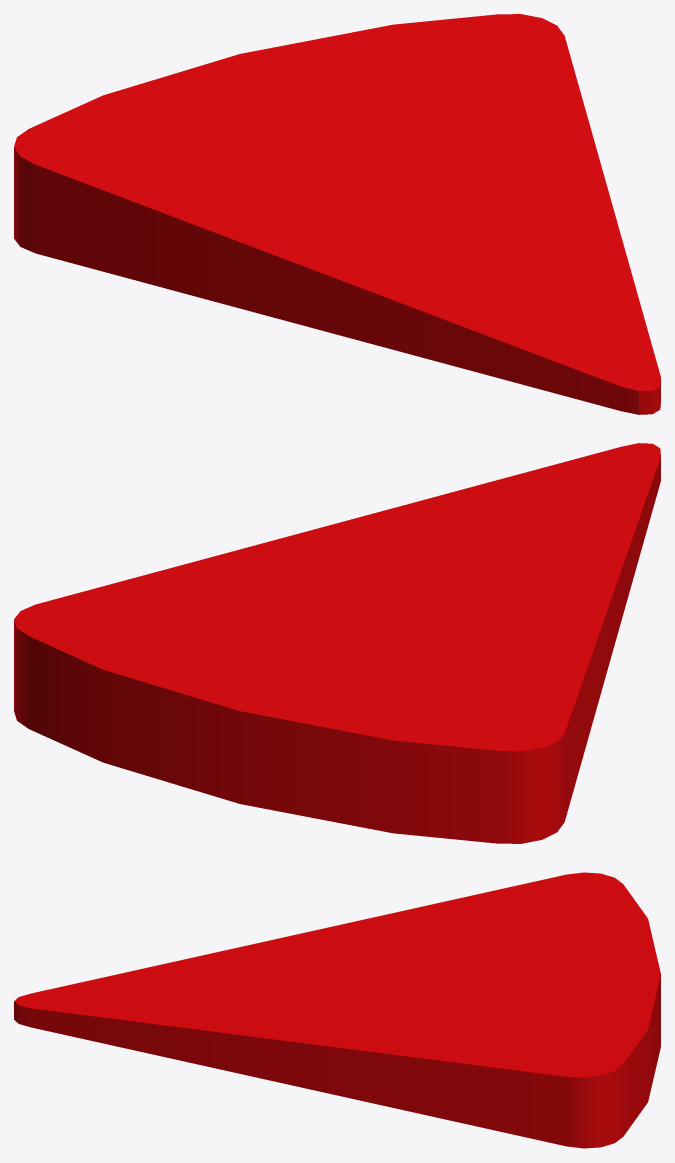
The model's file is police_vision.fbx.
3 views of the same model, one above another, from view 1: azimuth 30°, elevation 25°; view 2: azimuth 150°, elevation 25°; view 3: azimuth 270°, elevation 25° (orthographic). The views are drawn at different scales.
Visible parts, largest first — view 1: Cylinder; view 2: Cylinder; view 3: Cylinder.
Boxes of the visible parts, <box> form: Cylinder: <box>14,14,660,414</box>; Cylinder: <box>14,443,660,843</box>; Cylinder: <box>14,872,660,1148</box>.
Size of the model in its own units: 3.19 by 4.25 by 0.5282.
